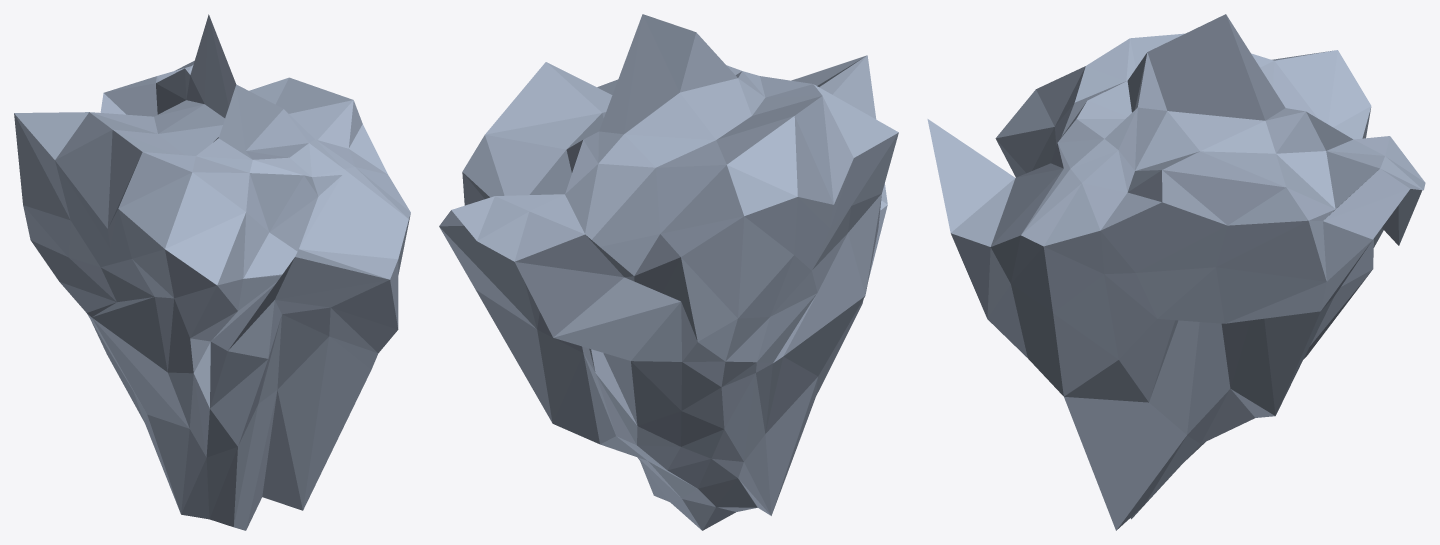
The model's file is reconstruction.obj.
The picture shows the model from 3 angles, left to right: view 1: azimuth 30°, elevation 25°; view 2: azimuth 150°, elevation 25°; view 3: azimuth 270°, elevation 25°; orthographic projection. The views are drawn at different scales.
Size of the model in its own units: 0.6571 by 1.13 by 1.
